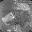people: (2, 11, 16, 26)
